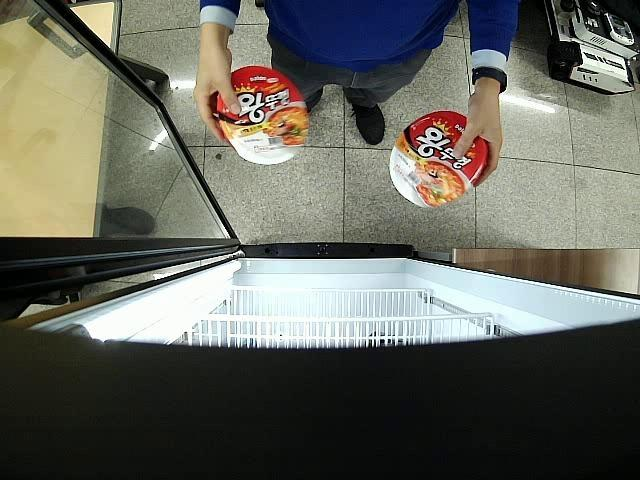10_wangTtukkeong: (389, 111, 489, 208), (213, 66, 310, 164)
